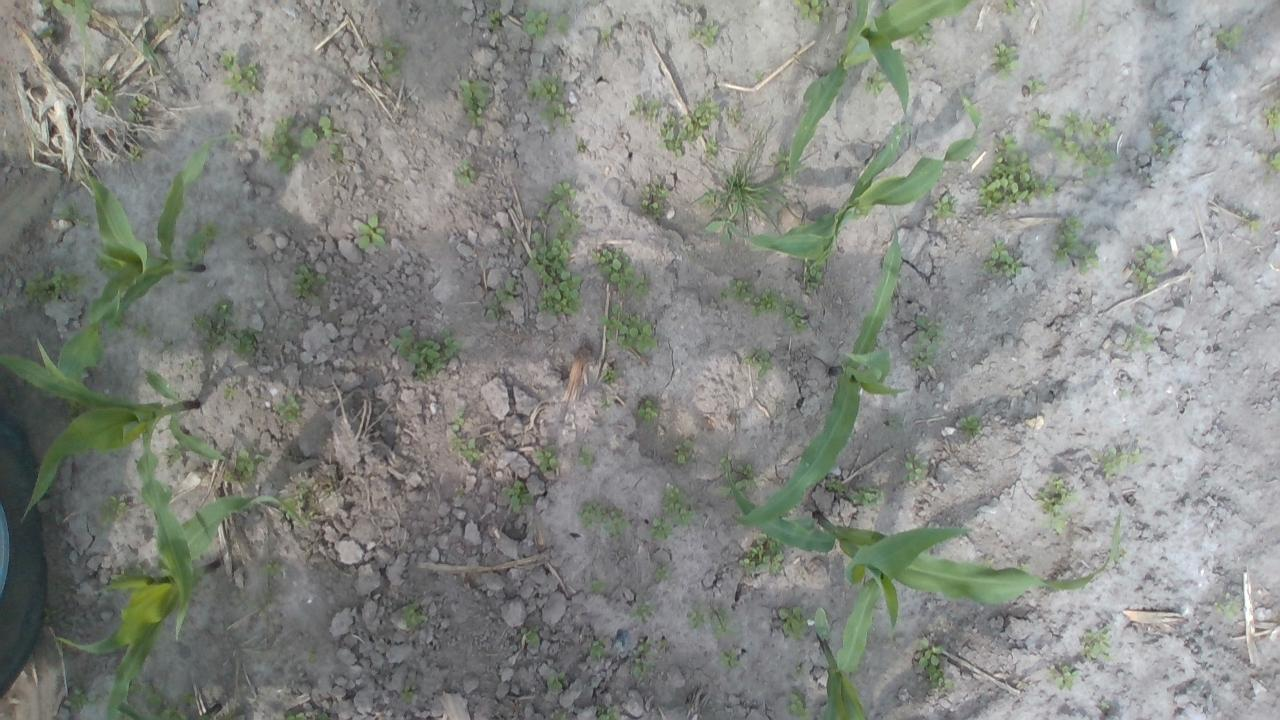Maize: (0, 338, 229, 640), (719, 480, 1122, 628), (733, 215, 908, 531), (64, 491, 298, 720), (59, 134, 245, 384), (734, 88, 983, 264), (786, 0, 972, 174), (808, 579, 890, 720), (72, 0, 198, 62), (111, 701, 222, 720)
Weeds: (709, 162, 789, 230), (976, 130, 1039, 216), (528, 228, 584, 316), (596, 304, 657, 352), (412, 327, 461, 382), (260, 115, 302, 176), (736, 532, 788, 576), (192, 301, 235, 352), (906, 316, 948, 368), (592, 244, 636, 292), (916, 636, 954, 690), (1034, 472, 1080, 514), (458, 78, 494, 128), (684, 96, 720, 145), (1052, 214, 1084, 266), (1072, 142, 1118, 178), (983, 240, 1026, 278), (660, 482, 696, 526), (288, 264, 328, 302), (126, 680, 167, 714), (656, 114, 686, 160), (281, 487, 314, 528), (1044, 128, 1081, 164), (231, 324, 266, 362), (1080, 626, 1114, 664), (778, 606, 811, 645), (50, 264, 90, 296), (780, 292, 810, 334), (500, 480, 536, 514), (525, 71, 565, 100), (222, 63, 258, 95), (1210, 21, 1248, 51), (354, 216, 386, 250), (990, 42, 1020, 78), (300, 115, 332, 148), (744, 344, 774, 379), (86, 74, 112, 114), (236, 448, 264, 485), (1123, 324, 1157, 354), (706, 605, 736, 639), (53, 202, 90, 228), (21, 271, 50, 304), (98, 496, 126, 530), (789, 0, 827, 25), (64, 688, 100, 714), (1061, 109, 1091, 140), (746, 288, 778, 317), (786, 687, 814, 720), (449, 435, 483, 462), (1128, 262, 1158, 292), (538, 102, 574, 127), (1100, 446, 1127, 479), (801, 258, 827, 292), (389, 327, 414, 362), (850, 483, 886, 507), (540, 180, 578, 202), (1048, 662, 1080, 688), (1136, 243, 1164, 272), (522, 9, 550, 38), (629, 96, 660, 122), (276, 394, 304, 422), (604, 506, 630, 536), (557, 200, 582, 231), (687, 23, 718, 48), (1079, 243, 1102, 276), (578, 501, 605, 529), (907, 22, 936, 48), (453, 157, 478, 187), (902, 454, 926, 484), (378, 36, 408, 60), (864, 68, 888, 98), (401, 602, 429, 627), (1261, 96, 1280, 132), (932, 194, 958, 220), (1214, 592, 1240, 618), (1150, 131, 1176, 157), (630, 596, 656, 622), (650, 514, 674, 542), (705, 219, 735, 241), (125, 94, 149, 120), (536, 444, 559, 471), (956, 413, 982, 436), (638, 199, 666, 220), (729, 278, 754, 301), (496, 276, 518, 302), (736, 462, 758, 488), (686, 600, 706, 628), (1040, 513, 1068, 533), (638, 400, 662, 423), (769, 148, 792, 172), (1092, 119, 1116, 142), (1027, 109, 1047, 136), (164, 443, 186, 467), (93, 256, 118, 277), (634, 273, 652, 302), (642, 178, 668, 198), (49, 0, 76, 18), (674, 438, 692, 464), (1261, 150, 1280, 174), (632, 659, 656, 678), (718, 650, 742, 669), (110, 564, 144, 577), (587, 578, 612, 595), (722, 481, 744, 500), (555, 11, 572, 35), (217, 51, 237, 71), (579, 444, 595, 469), (328, 142, 346, 164), (1026, 78, 1048, 96), (1040, 177, 1058, 199), (378, 64, 402, 80), (202, 221, 222, 240), (589, 636, 607, 656), (64, 398, 86, 414), (484, 299, 501, 319), (703, 140, 720, 160), (548, 672, 564, 693), (654, 563, 670, 584), (520, 626, 538, 644), (43, 604, 61, 622), (400, 684, 417, 703), (597, 706, 620, 720), (133, 322, 151, 339), (488, 9, 502, 30), (127, 148, 145, 164), (716, 454, 732, 472), (1147, 117, 1166, 132), (637, 639, 654, 655), (598, 27, 614, 44), (729, 105, 744, 123), (452, 408, 464, 430), (830, 477, 846, 493), (698, 192, 714, 208), (154, 17, 172, 31), (263, 562, 281, 576), (601, 368, 619, 382), (978, 557, 995, 571), (1078, 4, 1088, 26), (284, 711, 308, 720), (258, 589, 272, 604), (794, 666, 809, 680), (1128, 448, 1142, 463), (1003, 0, 1019, 13), (222, 385, 235, 400), (37, 28, 53, 40), (1016, 562, 1032, 574), (1116, 543, 1126, 562), (538, 210, 551, 223), (184, 692, 198, 704), (718, 286, 728, 302), (37, 0, 51, 11), (1250, 219, 1262, 230), (601, 398, 612, 410), (574, 139, 584, 152), (186, 361, 197, 371), (550, 714, 567, 720), (308, 652, 318, 662), (224, 470, 233, 481), (1099, 700, 1109, 709), (319, 712, 330, 720), (230, 127, 238, 135), (502, 229, 511, 236), (658, 640, 668, 646), (757, 72, 763, 78)
